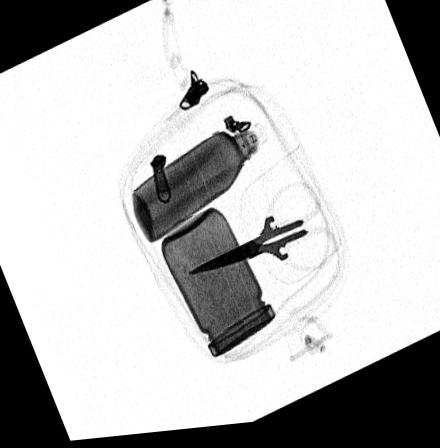Scissors: (184, 188, 337, 279)
